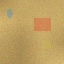person: (6, 8, 12, 17)
structure: (40, 35, 52, 48)
vehicle: (33, 17, 50, 30)
